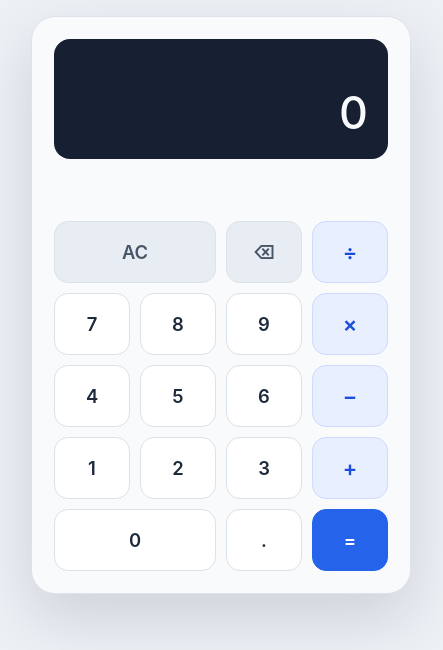
Test case: Calculator › sends an operation to the API and displays the result
The width and height of the screenshot is (443, 650).
Click the button "5": (178, 396) [140,365,216,427]
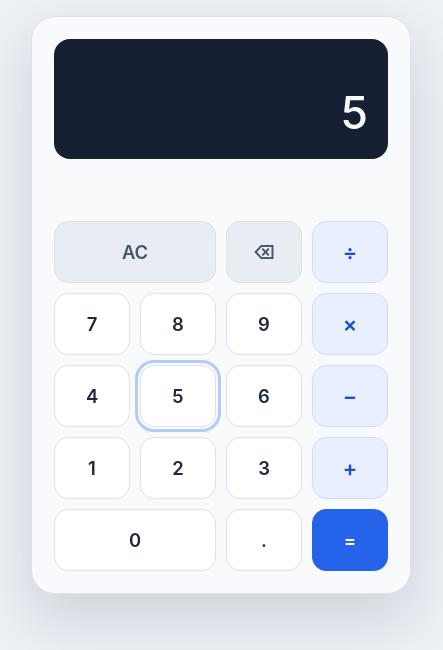
Click the button "+": (350, 468) [312,437,388,499]
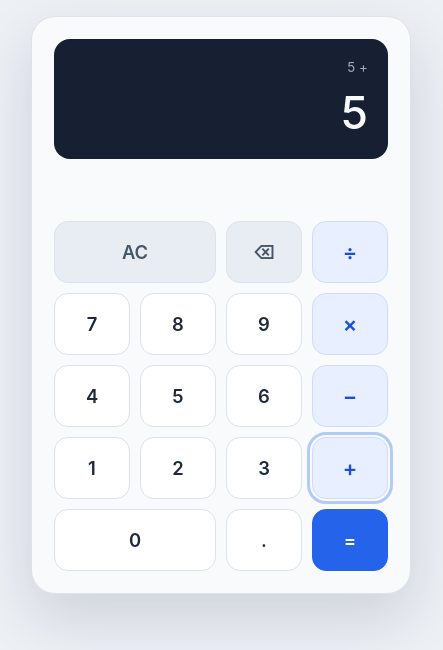
Click the button "3": (264, 468) [226,437,302,499]
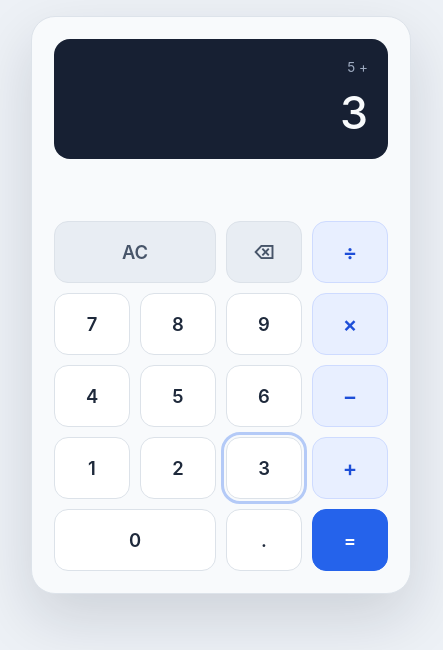
Click the button "=": (350, 540) [312,509,388,571]
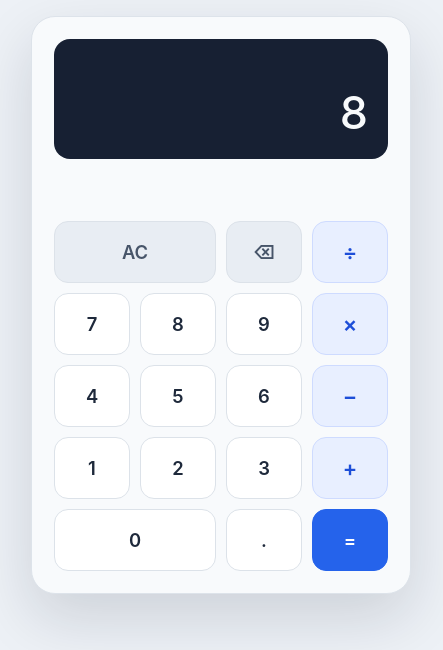
Result: the text "8" is shown at [340,86,368,140]
